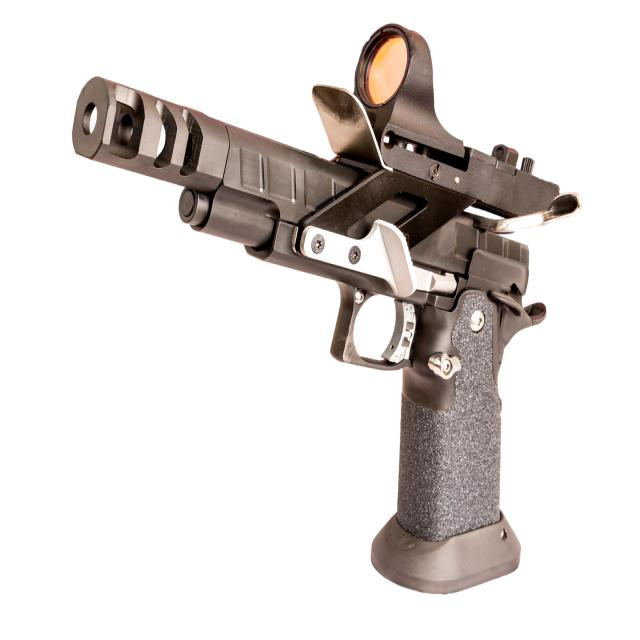HandGun: (70, 24, 582, 597)
